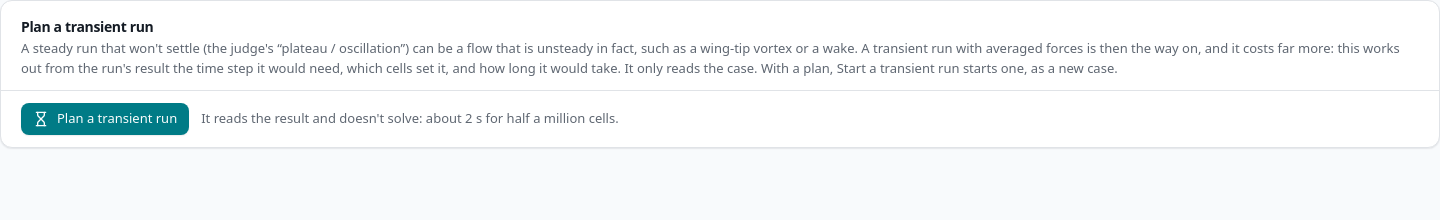
Test: Plan a transient run › before a plan: says what it does, and plans the run as a tplan job, which it then follows
Check: the heading "Plan a transient run" is shown, box [21,17,153,36]
Check: the text "A steady run that won.t settle (the judge.s “plateau / oscillation”)" is shown, box [21,39,1400,76]
Click the button "Plan a transient run". click: coordinates (105, 119)
box: [21,103,189,135]
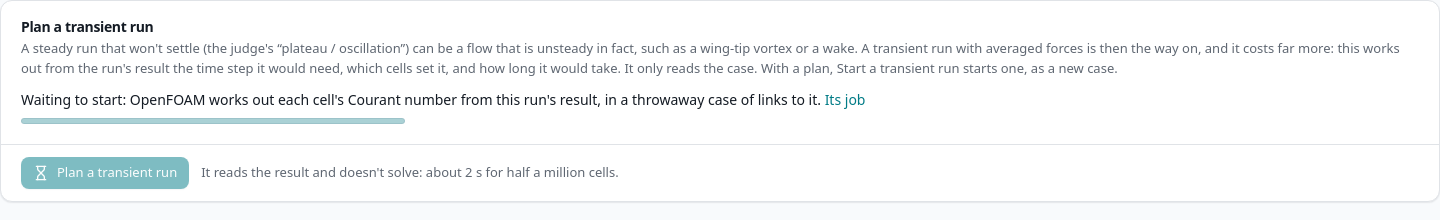
Check: the text "Waiting to start: OpenFOAM works out each cell's Courant number from this run's" is shown, box [21,90,866,109]
Check: the button "Plan a transient run" is disabled, box [21,157,189,189]
